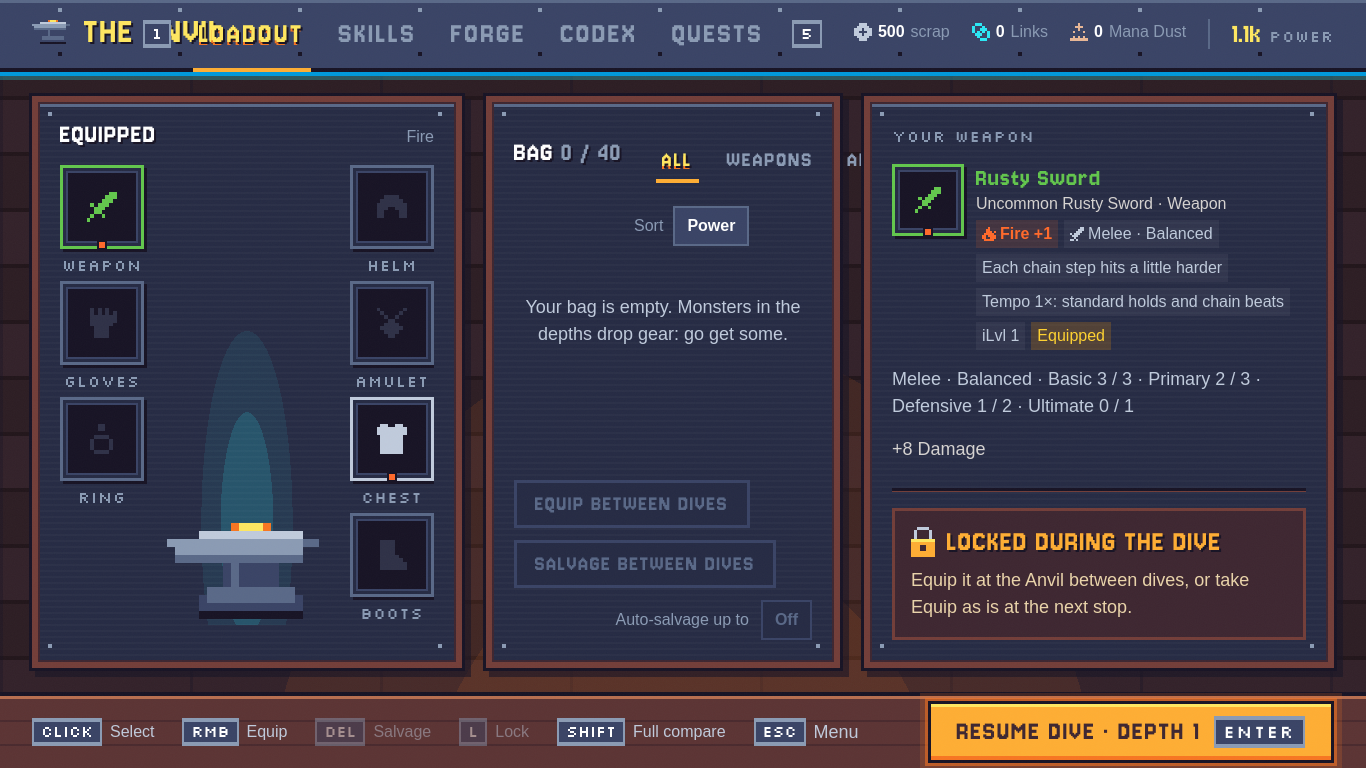
Test case: DelveCamp › Restart Delve (dev), from the system menu, wipes the save back to the first question
The footer's Menu (Esc / Menu) opens the system menu.
Click the button "Esc Menu": (806, 732) [754, 716, 859, 748]
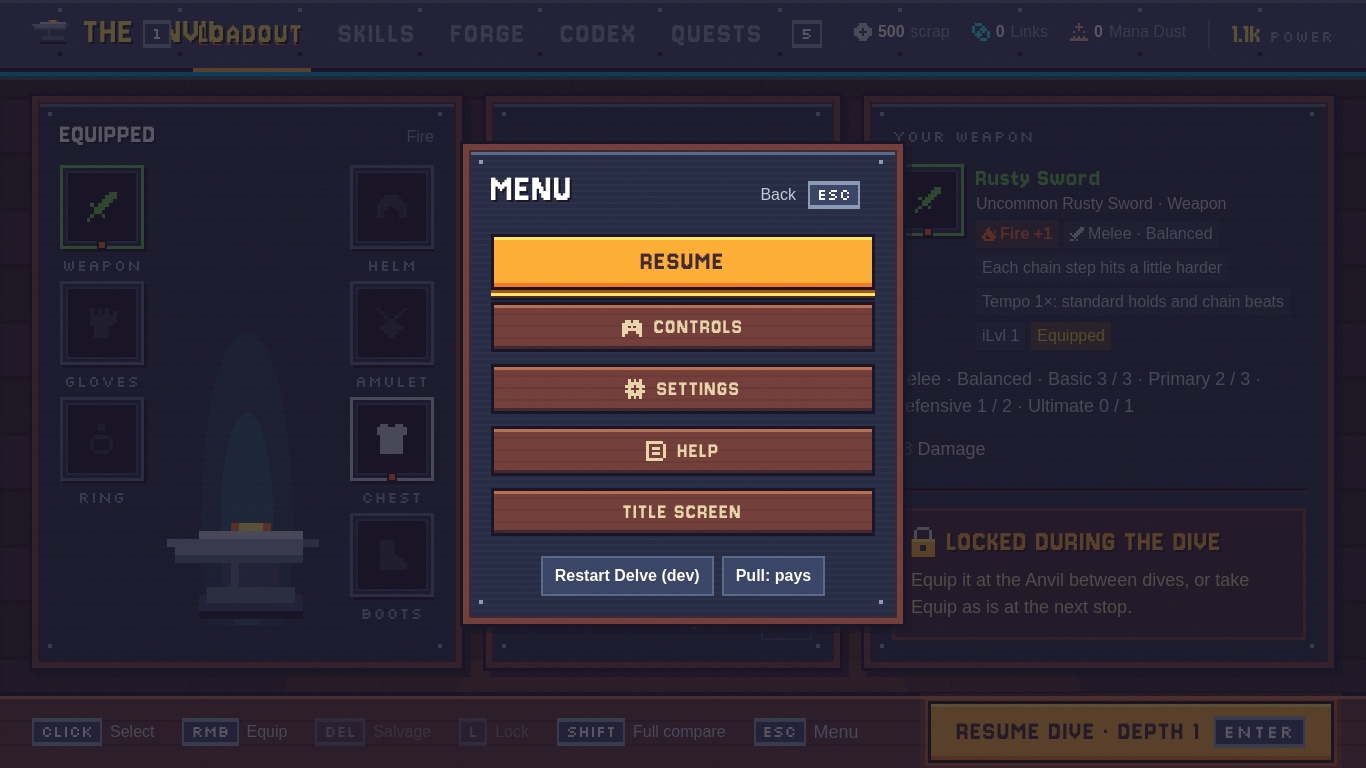
Click the button with test id "restart-delve": (627, 576) [541, 556, 714, 596]
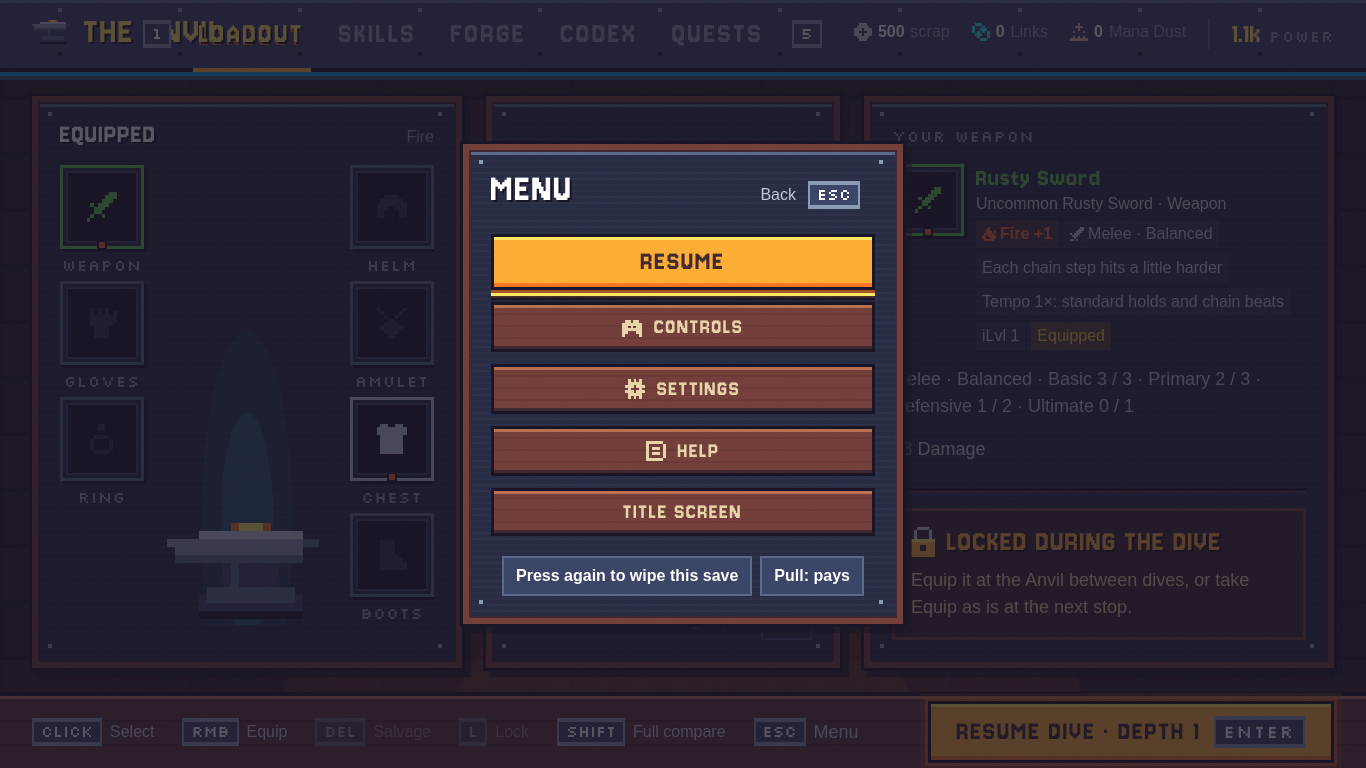
Check: the button with test id "restart-delve" shows "wipe"
Click the button with test id "restart-delve": (627, 576) [502, 556, 752, 596]
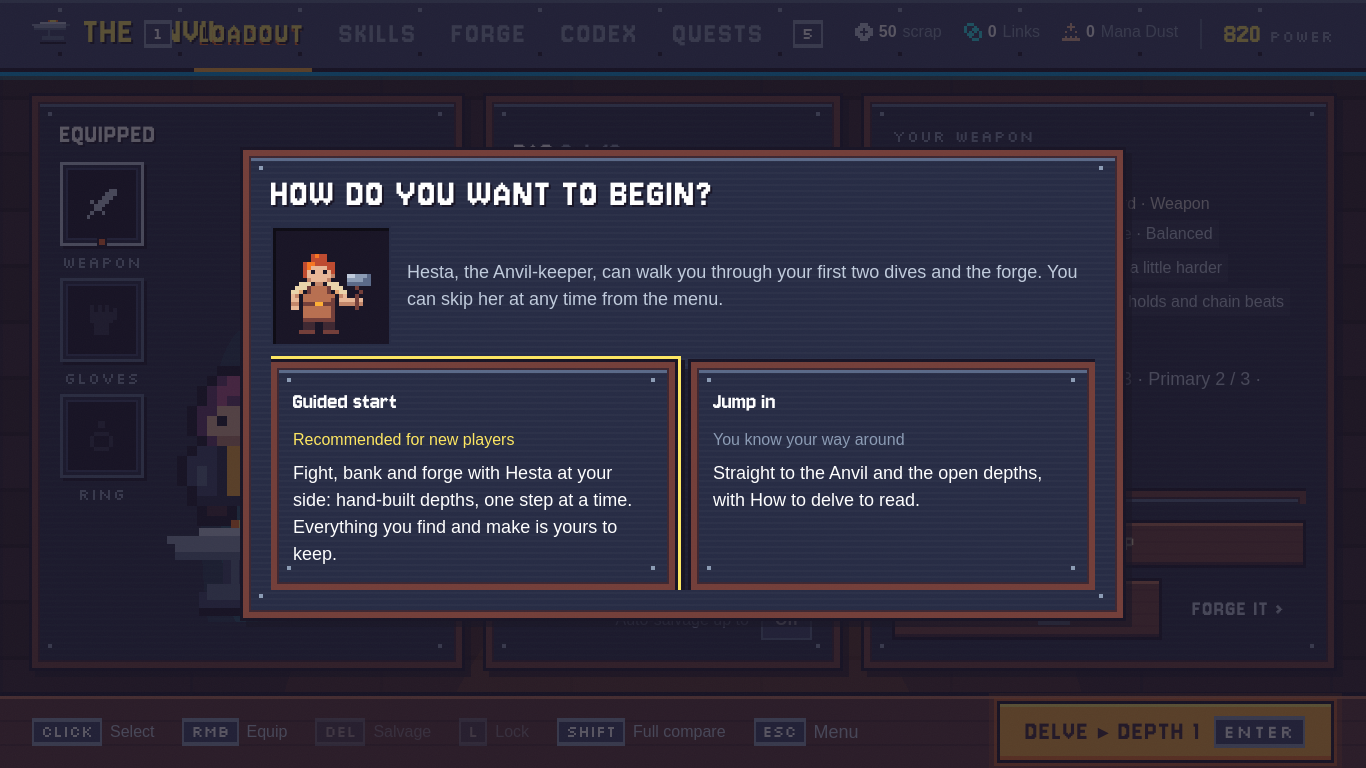
Check: the dialog with test id "guided-choice" is shown, box [243, 150, 1123, 618]
Check: the dialog with test id "system-menu" is gone
